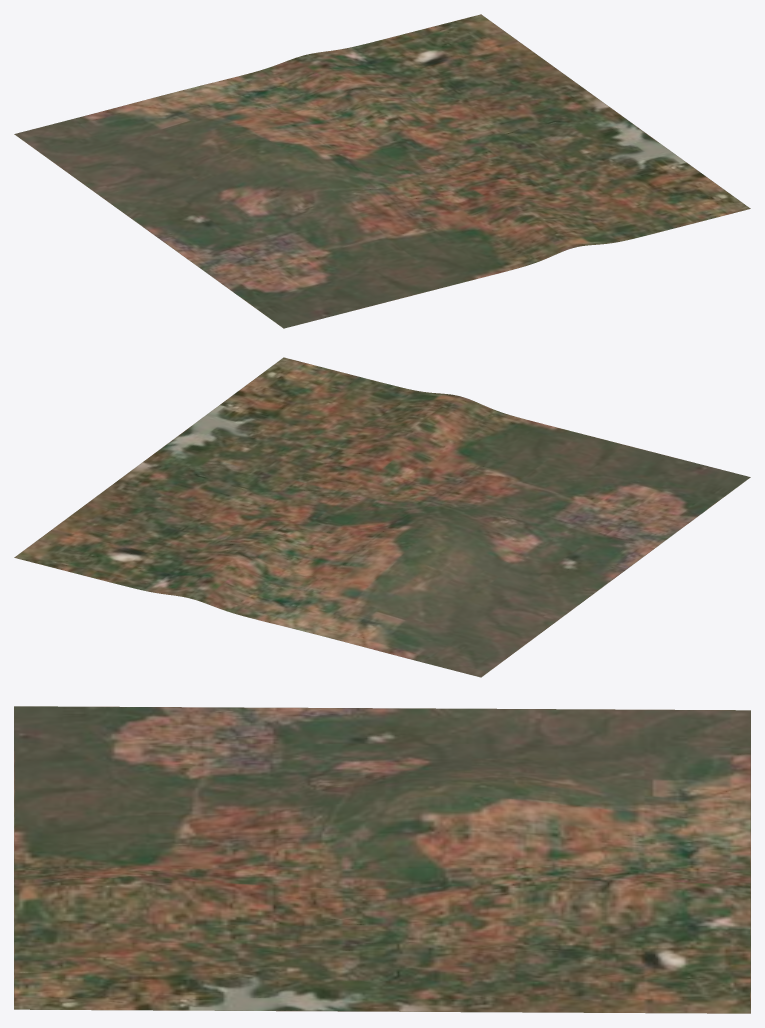
3 renders of one model, top to bottom at view 1: azimuth 30°, elevation 25°; view 2: azimuth 150°, elevation 25°; view 3: azimuth 270°, elevation 25°, orthographic. The views are drawn at different scales.
Parts seen in each view (by area): view 1: geometry_0; view 2: geometry_0; view 3: geometry_0.
Part boxes in pixels (box(x1,y1,x2,y2)): geometry_0: box(14, 14, 750, 328); geometry_0: box(14, 357, 750, 677); geometry_0: box(14, 706, 750, 1013).
Size of the model in its own units: 10000 by 386 by 10000.
Materials: 1 (1 with a texture image).
